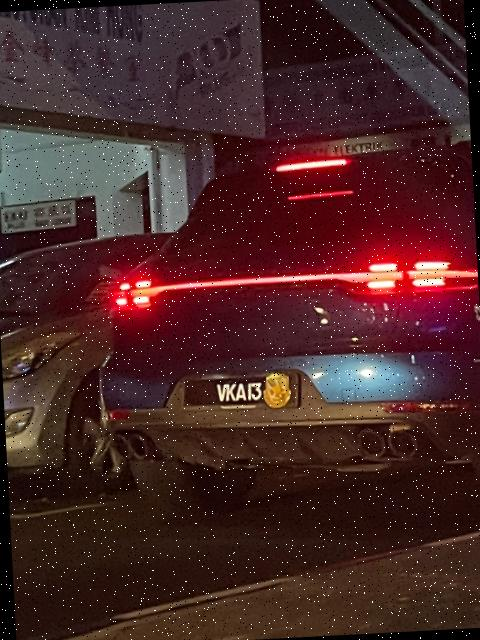License_Plate: (193, 372, 279, 409)
car: (84, 129, 480, 504), (1, 225, 206, 478)
